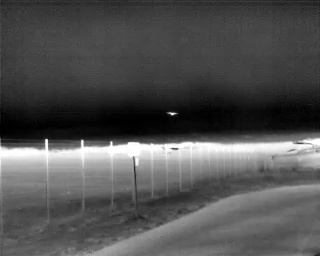AIRPLANE: (166, 109, 180, 118)
